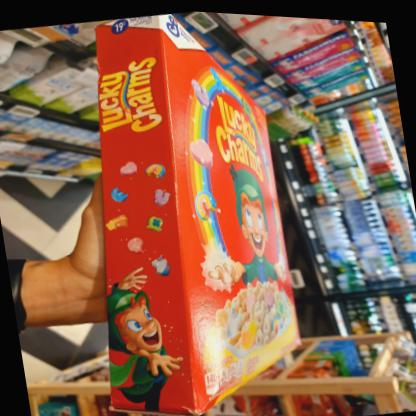i: (44, 2, 314, 415)
